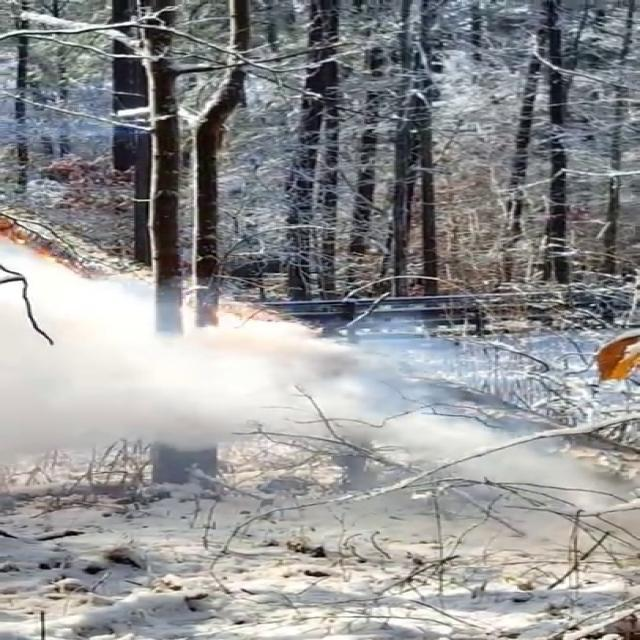Smoke: (1, 234, 611, 487)
